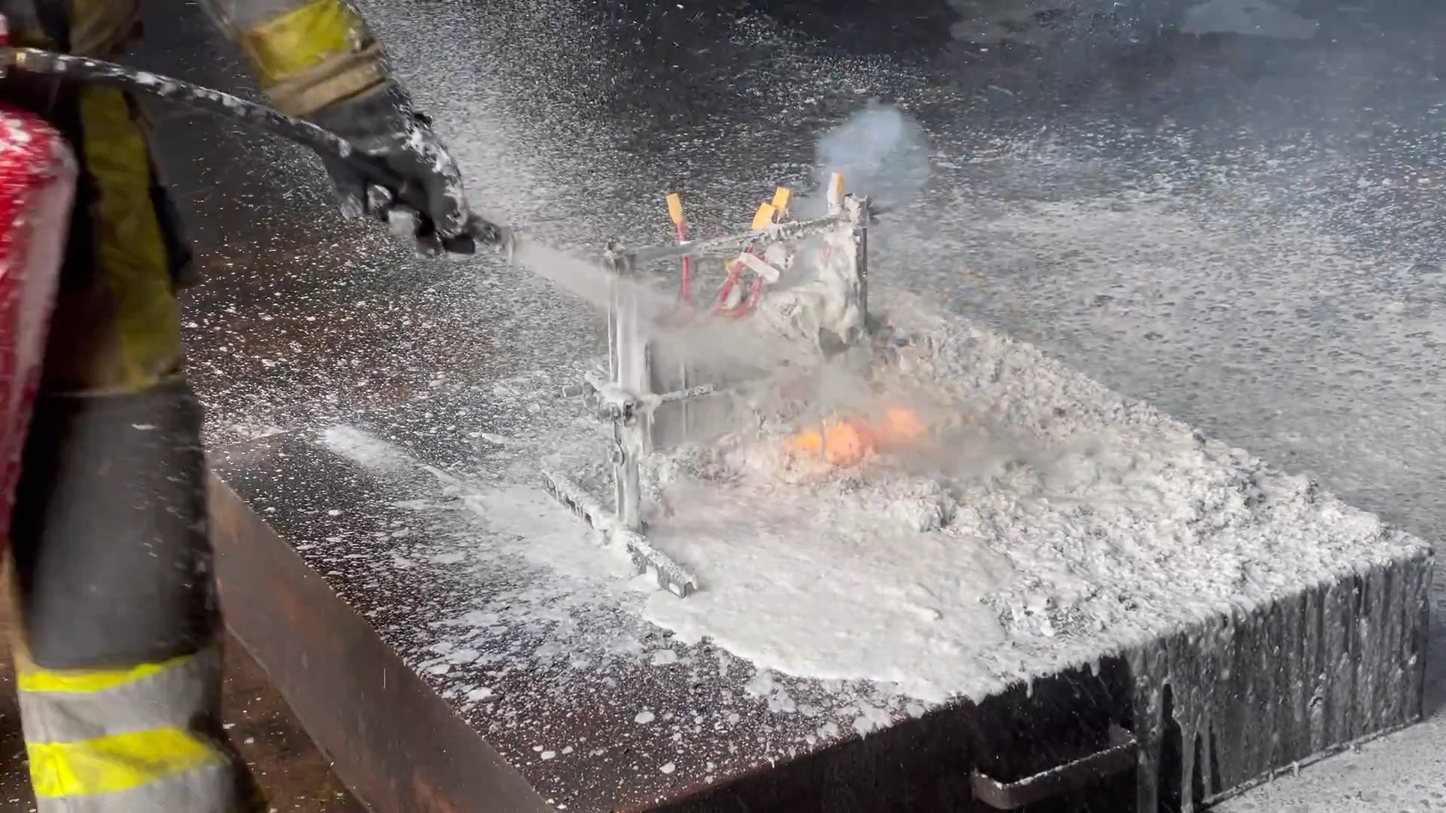fire: (768, 403, 932, 466)
smoke: (774, 99, 940, 242)
